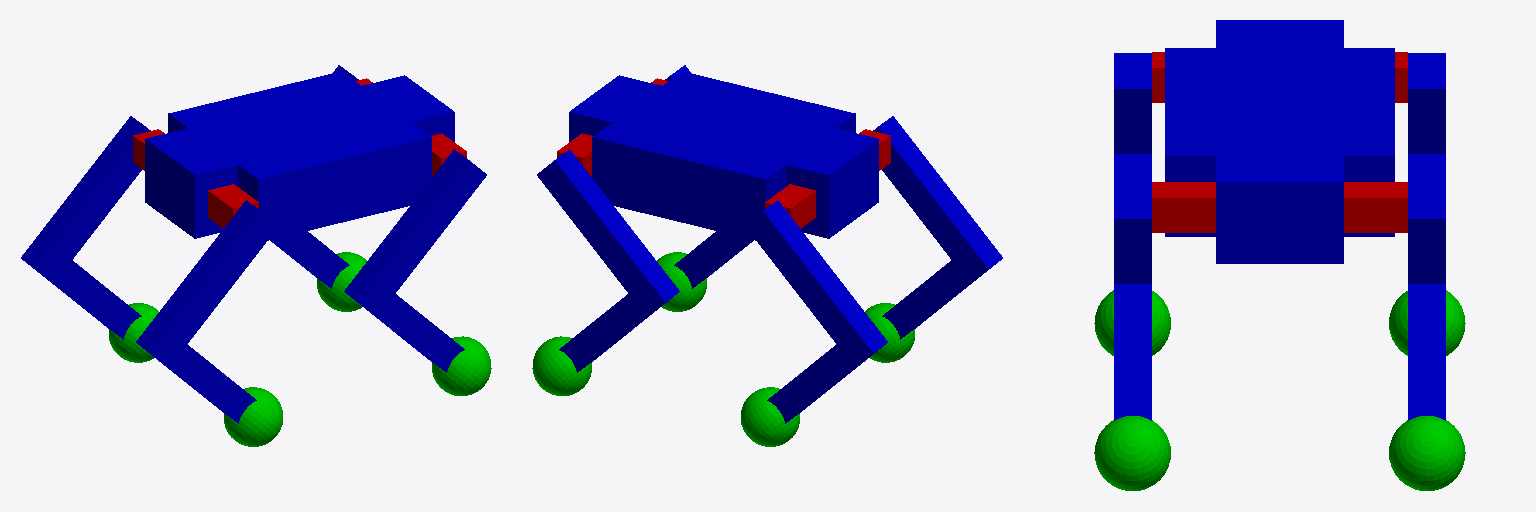
URDF robot description (quadrus):
<?xml version="1.0" ?>
<!-- =================================================================================== -->
<!-- |    This document was autogenerated by xacro from quadrus.xacro                  | -->
<!-- |    EDITING THIS FILE BY HAND IS NOT RECOMMENDED                                 | -->
<!-- =================================================================================== -->
<robot name="quadrus">
  <material name="black">
    <color rgba="0.0 0.0 0.0 1.0"/>
  </material>
  <material name="blue">
    <color rgba="0.0 0.0 0.8 1.0"/>
  </material>
  <material name="green">
    <color rgba="0.0 0.8 0.0 1.0"/>
  </material>
  <material name="grey">
    <color rgba="0.2 0.2 0.2 1.0"/>
  </material>
  <material name="orange">
    <color rgba="1.0 0.4235294117647059 0.0392156862745098 1.0"/>
  </material>
  <material name="brown">
    <color rgba="0.8705882352941177 0.8117647058823529 0.7647058823529411 1.0"/>
  </material>
  <material name="red">
    <color rgba="0.8 0.0 0.0 1.0"/>
  </material>
  <material name="white">
    <color rgba="1.0 1.0 1.0 1.0"/>
  </material>
  <link name="base_link">
    <visual>
      <origin rpy="0 0 0" xyz="0 0 0"/>
      <geometry>
        <box size="0.30 0.10 0.07"/>
      </geometry>
      <material name="blue"/>
    </visual>
    <visual>
      <origin rpy="0 0 0" xyz="0 0 0"/>
      <geometry>
        <box size="0.2 0.18 0.07"/>
      </geometry>
      <material name="blue"/>
    </visual>
    <collision>
      <origin rpy="0 0 0" xyz="0 0 0"/>
      <geometry>
        <box size="0.30 0.10 0.07"/>
      </geometry>
    </collision>
    <inertial>
      <mass value="2"/>
      <inertia ixx="0.13" ixy="0.0" ixz="0.0" iyy="0.21" iyz="0.0" izz="0.13"/>
    </inertial>
  </link>
  <!-- Hip -->
  <link name="link_back_right_hip">
    <visual>
      <origin rpy="0 0 0" xyz="0 0 0"/>
      <geometry>
        <box size="0.03 0.05 0.03"/>
      </geometry>
      <material name="red"/>
    </visual>
    <collision>
      <origin rpy="0 0 0" xyz="0 0 0"/>
      <geometry>
        <box size="0.03 0.05 0.03"/>
      </geometry>
    </collision>
    <inertial>
      <mass value="0.1"/>
      <inertia ixx="0.01" ixy="0.0" ixz="0.0" iyy="0.01" iyz="0.0" izz="0.01"/>
    </inertial>
  </link>
  <joint name="joint_back_right_hip" type="continuous">
    <parent link="base_link"/>
    <child link="link_back_right_hip"/>
    <origin rpy="0 0 0" xyz="-0.12 -0.075 0"/>
    <axis xyz="1 0 0"/>
  </joint>
  <transmission name="transmission_back_right_hip">
    <type>transmission_interface/SimpleTransmission</type>
    <joint name="joint_back_right_hip">
      <hardwareInterface>hardware_interface/EffortJointInterface</hardwareInterface>
    </joint>
    <actuator name="motor_back_right_hip">
      <mechanicalReduction>1</mechanicalReduction>
      <hardwareInterface>hardware_interface/EffortJointInterface</hardwareInterface>
    </actuator>
  </transmission>
  <gazebo reference="link_back_right_hip">
    <material>Gazebo/Red</material>
  </gazebo>
  <!-- Upperleg -->
  <link name="link_back_right_upperleg">
    <visual>
      <origin rpy="0 0 0" xyz="-0.075 0 0"/>
      <geometry>
        <box size="0.18 0.03 0.03"/>
      </geometry>
      <material name="blue"/>
    </visual>
    <collision>
      <origin rpy="0 0 0" xyz="-0.075 0 0"/>
      <geometry>
        <box size="0.18 0.03 0.03"/>
      </geometry>
    </collision>
    <inertial>
      <mass value="0.1"/>
      <inertia ixx="0.1" ixy="0.0" ixz="0.0" iyy="0.1" iyz="0.0" izz="0.1"/>
    </inertial>
  </link>
  <joint name="joint_back_right_upperleg" type="continuous">
    <parent link="link_back_right_hip"/>
    <child link="link_back_right_upperleg"/>
    <origin rpy="0 -0.7854 0" xyz="0 -0.04 0"/>
    <axis xyz="0 1 0"/>
  </joint>
  <transmission name="transmission_back_right_upperleg">
    <type>transmission_interface/SimpleTransmission</type>
    <joint name="joint_back_right_upperleg">
      <hardwareInterface>hardware_interface/EffortJointInterface</hardwareInterface>
    </joint>
    <actuator name="motor_back_right_upperleg">
      <mechanicalReduction>1</mechanicalReduction>
      <hardwareInterface>hardware_interface/EffortJointInterface</hardwareInterface>
    </actuator>
  </transmission>
  <gazebo reference="link_back_right_upperleg">
    <material>Gazebo/White</material>
  </gazebo>
  <!-- LowerLeg -->
  <link name="link_back_right_lowerleg">
    <visual>
      <origin rpy="0 0 0" xyz="0.075 0 0"/>
      <geometry>
        <box size="0.18 0.03 0.03"/>
      </geometry>
      <material name="blue"/>
    </visual>
    <collision>
      <origin rpy="0 0 0" xyz="0.075 0 0"/>
      <geometry>
        <box size="0.18 0.03 0.03"/>
      </geometry>
    </collision>
    <inertial>
      <mass value="0.1"/>
      <inertia ixx="0.1" ixy="0.0" ixz="0.0" iyy="0.1" iyz="0.0" izz="0.1"/>
    </inertial>
  </link>
  <joint name="joint_back_right_lowerleg" type="continuous">
    <parent link="link_back_right_upperleg"/>
    <child link="link_back_right_lowerleg"/>
    <origin rpy="0 1.5708 0" xyz="-0.15 0 0"/>
    <axis xyz="0 1 0"/>
  </joint>
  <transmission name="transmission_back_right_lowerleg">
    <type>transmission_interface/SimpleTransmission</type>
    <joint name="joint_back_right_lowerleg">
      <hardwareInterface>hardware_interface/EffortJointInterface</hardwareInterface>
    </joint>
    <actuator name="motor_back_right_lowerleg">
      <mechanicalReduction>1</mechanicalReduction>
      <hardwareInterface>hardware_interface/EffortJointInterface</hardwareInterface>
    </actuator>
  </transmission>
  <gazebo reference="link_back_right_lowerleg">
    <material>Gazebo/White</material>
  </gazebo>
  <!-- Paw -->
  <link name="link_back_right_paw">
    <visual>
      <origin rpy="0 0 0" xyz="0 0 0"/>
      <geometry>
        <sphere radius="0.03"/>
      </geometry>
      <material name="green"/>
    </visual>
    <collision>
      <origin rpy="0 0 0" xyz="0 0 0"/>
      <geometry>
        <sphere radius="0.03"/>
      </geometry>
    </collision>
    <inertial>
      <mass value="0.1"/>
      <inertia ixx="0.1" ixy="0.0" ixz="0.0" iyy="0.1" iyz="0.0" izz="0.1"/>
    </inertial>
  </link>
  <joint name="joint_back_right_paw" type="fixed">
    <parent link="link_back_right_lowerleg"/>
    <child link="link_back_right_paw"/>
    <origin rpy="0 0 0" xyz="0.15 0 0"/>
  </joint>
  <gazebo reference="link_back_right_paw">
    <material>Gazebo/Green</material>
  </gazebo>
  <!-- Hip -->
  <link name="link_back_left_hip">
    <visual>
      <origin rpy="0 0 0" xyz="0 0 0"/>
      <geometry>
        <box size="0.03 0.05 0.03"/>
      </geometry>
      <material name="red"/>
    </visual>
    <collision>
      <origin rpy="0 0 0" xyz="0 0 0"/>
      <geometry>
        <box size="0.03 0.05 0.03"/>
      </geometry>
    </collision>
    <inertial>
      <mass value="0.1"/>
      <inertia ixx="0.01" ixy="0.0" ixz="0.0" iyy="0.01" iyz="0.0" izz="0.01"/>
    </inertial>
  </link>
  <joint name="joint_back_left_hip" type="continuous">
    <parent link="base_link"/>
    <child link="link_back_left_hip"/>
    <origin rpy="0 0 0" xyz="-0.12 0.075 0"/>
    <axis xyz="1 0 0"/>
  </joint>
  <transmission name="transmission_back_left_hip">
    <type>transmission_interface/SimpleTransmission</type>
    <joint name="joint_back_left_hip">
      <hardwareInterface>hardware_interface/EffortJointInterface</hardwareInterface>
    </joint>
    <actuator name="motor_back_left_hip">
      <mechanicalReduction>1</mechanicalReduction>
      <hardwareInterface>hardware_interface/EffortJointInterface</hardwareInterface>
    </actuator>
  </transmission>
  <gazebo reference="link_back_left_hip">
    <material>Gazebo/Red</material>
  </gazebo>
  <!-- Upperleg -->
  <link name="link_back_left_upperleg">
    <visual>
      <origin rpy="0 0 0" xyz="-0.075 0 0"/>
      <geometry>
        <box size="0.18 0.03 0.03"/>
      </geometry>
      <material name="blue"/>
    </visual>
    <collision>
      <origin rpy="0 0 0" xyz="-0.075 0 0"/>
      <geometry>
        <box size="0.18 0.03 0.03"/>
      </geometry>
    </collision>
    <inertial>
      <mass value="0.1"/>
      <inertia ixx="0.1" ixy="0.0" ixz="0.0" iyy="0.1" iyz="0.0" izz="0.1"/>
    </inertial>
  </link>
  <joint name="joint_back_left_upperleg" type="continuous">
    <parent link="link_back_left_hip"/>
    <child link="link_back_left_upperleg"/>
    <origin rpy="0 -0.7854 0" xyz="0 0.04 0"/>
    <axis xyz="0 1 0"/>
  </joint>
  <transmission name="transmission_back_left_upperleg">
    <type>transmission_interface/SimpleTransmission</type>
    <joint name="joint_back_left_upperleg">
      <hardwareInterface>hardware_interface/EffortJointInterface</hardwareInterface>
    </joint>
    <actuator name="motor_back_left_upperleg">
      <mechanicalReduction>1</mechanicalReduction>
      <hardwareInterface>hardware_interface/EffortJointInterface</hardwareInterface>
    </actuator>
  </transmission>
  <gazebo reference="link_back_left_upperleg">
    <material>Gazebo/White</material>
  </gazebo>
  <!-- LowerLeg -->
  <link name="link_back_left_lowerleg">
    <visual>
      <origin rpy="0 0 0" xyz="0.075 0 0"/>
      <geometry>
        <box size="0.18 0.03 0.03"/>
      </geometry>
      <material name="blue"/>
    </visual>
    <collision>
      <origin rpy="0 0 0" xyz="0.075 0 0"/>
      <geometry>
        <box size="0.18 0.03 0.03"/>
      </geometry>
    </collision>
    <inertial>
      <mass value="0.1"/>
      <inertia ixx="0.1" ixy="0.0" ixz="0.0" iyy="0.1" iyz="0.0" izz="0.1"/>
    </inertial>
  </link>
  <joint name="joint_back_left_lowerleg" type="continuous">
    <parent link="link_back_left_upperleg"/>
    <child link="link_back_left_lowerleg"/>
    <origin rpy="0 1.5708 0" xyz="-0.15 0 0"/>
    <axis xyz="0 1 0"/>
  </joint>
  <transmission name="transmission_back_left_lowerleg">
    <type>transmission_interface/SimpleTransmission</type>
    <joint name="joint_back_left_lowerleg">
      <hardwareInterface>hardware_interface/EffortJointInterface</hardwareInterface>
    </joint>
    <actuator name="motor_back_left_lowerleg">
      <mechanicalReduction>1</mechanicalReduction>
      <hardwareInterface>hardware_interface/EffortJointInterface</hardwareInterface>
    </actuator>
  </transmission>
  <gazebo reference="link_back_left_lowerleg">
    <material>Gazebo/White</material>
  </gazebo>
  <!-- Paw -->
  <link name="link_back_left_paw">
    <visual>
      <origin rpy="0 0 0" xyz="0 0 0"/>
      <geometry>
        <sphere radius="0.03"/>
      </geometry>
      <material name="green"/>
    </visual>
    <collision>
      <origin rpy="0 0 0" xyz="0 0 0"/>
      <geometry>
        <sphere radius="0.03"/>
      </geometry>
    </collision>
    <inertial>
      <mass value="0.1"/>
      <inertia ixx="0.1" ixy="0.0" ixz="0.0" iyy="0.1" iyz="0.0" izz="0.1"/>
    </inertial>
  </link>
  <joint name="joint_back_left_paw" type="fixed">
    <parent link="link_back_left_lowerleg"/>
    <child link="link_back_left_paw"/>
    <origin rpy="0 0 0" xyz="0.15 0 0"/>
  </joint>
  <gazebo reference="link_back_left_paw">
    <material>Gazebo/Green</material>
  </gazebo>
  <!-- Hip -->
  <link name="link_front_right_hip">
    <visual>
      <origin rpy="0 0 0" xyz="0 0 0"/>
      <geometry>
        <box size="0.03 0.05 0.03"/>
      </geometry>
      <material name="red"/>
    </visual>
    <collision>
      <origin rpy="0 0 0" xyz="0 0 0"/>
      <geometry>
        <box size="0.03 0.05 0.03"/>
      </geometry>
    </collision>
    <inertial>
      <mass value="0.1"/>
      <inertia ixx="0.01" ixy="0.0" ixz="0.0" iyy="0.01" iyz="0.0" izz="0.01"/>
    </inertial>
  </link>
  <joint name="joint_front_right_hip" type="continuous">
    <parent link="base_link"/>
    <child link="link_front_right_hip"/>
    <origin rpy="0 0 0" xyz="0.12 -0.075 0"/>
    <axis xyz="1 0 0"/>
  </joint>
  <transmission name="transmission_front_right_hip">
    <type>transmission_interface/SimpleTransmission</type>
    <joint name="joint_front_right_hip">
      <hardwareInterface>hardware_interface/EffortJointInterface</hardwareInterface>
    </joint>
    <actuator name="motor_front_right_hip">
      <mechanicalReduction>1</mechanicalReduction>
      <hardwareInterface>hardware_interface/EffortJointInterface</hardwareInterface>
    </actuator>
  </transmission>
  <gazebo reference="link_front_right_hip">
    <material>Gazebo/Red</material>
  </gazebo>
  <!-- Upperleg -->
  <link name="link_front_right_upperleg">
    <visual>
      <origin rpy="0 0 0" xyz="-0.075 0 0"/>
      <geometry>
        <box size="0.18 0.03 0.03"/>
      </geometry>
      <material name="blue"/>
    </visual>
    <collision>
      <origin rpy="0 0 0" xyz="-0.075 0 0"/>
      <geometry>
        <box size="0.18 0.03 0.03"/>
      </geometry>
    </collision>
    <inertial>
      <mass value="0.1"/>
      <inertia ixx="0.1" ixy="0.0" ixz="0.0" iyy="0.1" iyz="0.0" izz="0.1"/>
    </inertial>
  </link>
  <joint name="joint_front_right_upperleg" type="continuous">
    <parent link="link_front_right_hip"/>
    <child link="link_front_right_upperleg"/>
    <origin rpy="0 -0.7854 0" xyz="0 -0.04 0"/>
    <axis xyz="0 1 0"/>
  </joint>
  <transmission name="transmission_front_right_upperleg">
    <type>transmission_interface/SimpleTransmission</type>
    <joint name="joint_front_right_upperleg">
      <hardwareInterface>hardware_interface/EffortJointInterface</hardwareInterface>
    </joint>
    <actuator name="motor_front_right_upperleg">
      <mechanicalReduction>1</mechanicalReduction>
      <hardwareInterface>hardware_interface/EffortJointInterface</hardwareInterface>
    </actuator>
  </transmission>
  <gazebo reference="link_front_right_upperleg">
    <material>Gazebo/White</material>
  </gazebo>
  <!-- LowerLeg -->
  <link name="link_front_right_lowerleg">
    <visual>
      <origin rpy="0 0 0" xyz="0.075 0 0"/>
      <geometry>
        <box size="0.18 0.03 0.03"/>
      </geometry>
      <material name="blue"/>
    </visual>
    <collision>
      <origin rpy="0 0 0" xyz="0.075 0 0"/>
      <geometry>
        <box size="0.18 0.03 0.03"/>
      </geometry>
    </collision>
    <inertial>
      <mass value="0.1"/>
      <inertia ixx="0.1" ixy="0.0" ixz="0.0" iyy="0.1" iyz="0.0" izz="0.1"/>
    </inertial>
  </link>
  <joint name="joint_front_right_lowerleg" type="continuous">
    <parent link="link_front_right_upperleg"/>
    <child link="link_front_right_lowerleg"/>
    <origin rpy="0 1.5708 0" xyz="-0.15 0 0"/>
    <axis xyz="0 1 0"/>
  </joint>
  <transmission name="transmission_front_right_lowerleg">
    <type>transmission_interface/SimpleTransmission</type>
    <joint name="joint_front_right_lowerleg">
      <hardwareInterface>hardware_interface/EffortJointInterface</hardwareInterface>
    </joint>
    <actuator name="motor_front_right_lowerleg">
      <mechanicalReduction>1</mechanicalReduction>
      <hardwareInterface>hardware_interface/EffortJointInterface</hardwareInterface>
    </actuator>
  </transmission>
  <gazebo reference="link_front_right_lowerleg">
    <material>Gazebo/White</material>
  </gazebo>
  <!-- Paw -->
  <link name="link_front_right_paw">
    <visual>
      <origin rpy="0 0 0" xyz="0 0 0"/>
      <geometry>
        <sphere radius="0.03"/>
      </geometry>
      <material name="green"/>
    </visual>
    <collision>
      <origin rpy="0 0 0" xyz="0 0 0"/>
      <geometry>
        <sphere radius="0.03"/>
      </geometry>
    </collision>
    <inertial>
      <mass value="0.1"/>
      <inertia ixx="0.1" ixy="0.0" ixz="0.0" iyy="0.1" iyz="0.0" izz="0.1"/>
    </inertial>
  </link>
  <joint name="joint_front_right_paw" type="fixed">
    <parent link="link_front_right_lowerleg"/>
    <child link="link_front_right_paw"/>
    <origin rpy="0 0 0" xyz="0.15 0 0"/>
  </joint>
  <gazebo reference="link_front_right_paw">
    <material>Gazebo/Green</material>
  </gazebo>
  <!-- Hip -->
  <link name="link_front_left_hip">
    <visual>
      <origin rpy="0 0 0" xyz="0 0 0"/>
      <geometry>
        <box size="0.03 0.05 0.03"/>
      </geometry>
      <material name="red"/>
    </visual>
    <collision>
      <origin rpy="0 0 0" xyz="0 0 0"/>
      <geometry>
        <box size="0.03 0.05 0.03"/>
      </geometry>
    </collision>
    <inertial>
      <mass value="0.1"/>
      <inertia ixx="0.01" ixy="0.0" ixz="0.0" iyy="0.01" iyz="0.0" izz="0.01"/>
    </inertial>
  </link>
  <joint name="joint_front_left_hip" type="continuous">
    <parent link="base_link"/>
    <child link="link_front_left_hip"/>
    <origin rpy="0 0 0" xyz="0.12 0.075 0"/>
    <axis xyz="1 0 0"/>
  </joint>
  <transmission name="transmission_front_left_hip">
    <type>transmission_interface/SimpleTransmission</type>
    <joint name="joint_front_left_hip">
      <hardwareInterface>hardware_interface/EffortJointInterface</hardwareInterface>
    </joint>
    <actuator name="motor_front_left_hip">
      <mechanicalReduction>1</mechanicalReduction>
      <hardwareInterface>hardware_interface/EffortJointInterface</hardwareInterface>
    </actuator>
  </transmission>
  <gazebo reference="link_front_left_hip">
    <material>Gazebo/Red</material>
  </gazebo>
  <!-- Upperleg -->
  <link name="link_front_left_upperleg">
    <visual>
      <origin rpy="0 0 0" xyz="-0.075 0 0"/>
      <geometry>
        <box size="0.18 0.03 0.03"/>
      </geometry>
      <material name="blue"/>
    </visual>
    <collision>
      <origin rpy="0 0 0" xyz="-0.075 0 0"/>
      <geometry>
        <box size="0.18 0.03 0.03"/>
      </geometry>
    </collision>
    <inertial>
      <mass value="0.1"/>
      <inertia ixx="0.1" ixy="0.0" ixz="0.0" iyy="0.1" iyz="0.0" izz="0.1"/>
    </inertial>
  </link>
  <joint name="joint_front_left_upperleg" type="continuous">
    <parent link="link_front_left_hip"/>
    <child link="link_front_left_upperleg"/>
    <origin rpy="0 -0.7854 0" xyz="0 0.04 0"/>
    <axis xyz="0 1 0"/>
  </joint>
  <transmission name="transmission_front_left_upperleg">
    <type>transmission_interface/SimpleTransmission</type>
    <joint name="joint_front_left_upperleg">
      <hardwareInterface>hardware_interface/EffortJointInterface</hardwareInterface>
    </joint>
    <actuator name="motor_front_left_upperleg">
      <mechanicalReduction>1</mechanicalReduction>
      <hardwareInterface>hardware_interface/EffortJointInterface</hardwareInterface>
    </actuator>
  </transmission>
  <gazebo reference="link_front_left_upperleg">
    <material>Gazebo/White</material>
  </gazebo>
  <!-- LowerLeg -->
  <link name="link_front_left_lowerleg">
    <visual>
      <origin rpy="0 0 0" xyz="0.075 0 0"/>
      <geometry>
        <box size="0.18 0.03 0.03"/>
      </geometry>
      <material name="blue"/>
    </visual>
    <collision>
      <origin rpy="0 0 0" xyz="0.075 0 0"/>
      <geometry>
        <box size="0.18 0.03 0.03"/>
      </geometry>
    </collision>
    <inertial>
      <mass value="0.1"/>
      <inertia ixx="0.1" ixy="0.0" ixz="0.0" iyy="0.1" iyz="0.0" izz="0.1"/>
    </inertial>
  </link>
  <joint name="joint_front_left_lowerleg" type="continuous">
    <parent link="link_front_left_upperleg"/>
    <child link="link_front_left_lowerleg"/>
    <origin rpy="0 1.5708 0" xyz="-0.15 0 0"/>
    <axis xyz="0 1 0"/>
  </joint>
  <transmission name="transmission_front_left_lowerleg">
    <type>transmission_interface/SimpleTransmission</type>
    <joint name="joint_front_left_lowerleg">
      <hardwareInterface>hardware_interface/EffortJointInterface</hardwareInterface>
    </joint>
    <actuator name="motor_front_left_lowerleg">
      <mechanicalReduction>1</mechanicalReduction>
      <hardwareInterface>hardware_interface/EffortJointInterface</hardwareInterface>
    </actuator>
  </transmission>
  <gazebo reference="link_front_left_lowerleg">
    <material>Gazebo/White</material>
  </gazebo>
  <!-- Paw -->
  <link name="link_front_left_paw">
    <visual>
      <origin rpy="0 0 0" xyz="0 0 0"/>
      <geometry>
        <sphere radius="0.03"/>
      </geometry>
      <material name="green"/>
    </visual>
    <collision>
      <origin rpy="0 0 0" xyz="0 0 0"/>
      <geometry>
        <sphere radius="0.03"/>
      </geometry>
    </collision>
    <inertial>
      <mass value="0.1"/>
      <inertia ixx="0.1" ixy="0.0" ixz="0.0" iyy="0.1" iyz="0.0" izz="0.1"/>
    </inertial>
  </link>
  <joint name="joint_front_left_paw" type="fixed">
    <parent link="link_front_left_lowerleg"/>
    <child link="link_front_left_paw"/>
    <origin rpy="0 0 0" xyz="0.15 0 0"/>
  </joint>
  <gazebo reference="link_front_left_paw">
    <material>Gazebo/Green</material>
  </gazebo>
  <!-- ros_control plugin -->
  <gazebo>
    <plugin filename="libgazebo_ros_control.so" name="gazebo_ros_control">
      <robotNamespace>/quadrus</robotNamespace>
      <robotSimType>gazebo_ros_control/DefaultRobotHWSim</robotSimType>
    </plugin>
  </gazebo>
  <gazebo reference="base_link">
    <material>Gazebo/Blue</material>
    <pose>0 0 1 0 0 0 </pose>
  </gazebo>
</robot>

--- Render facts (derived) ---
The picture shows the robot from 3 angles, left to right: view 1: azimuth 30°, elevation 25°; view 2: azimuth 150°, elevation 25°; view 3: azimuth 270°, elevation 25°; orthographic projection.
Robot: quadrus — 17 links, 16 joints (12 continuous, 4 fixed); root link base_link; default pose: every joint at zero.
Links seen in each view (by area): view 1: base_link, link_front_right_upperleg, link_back_right_upperleg, link_back_left_upperleg, link_back_left_lowerleg, link_back_right_lowerleg, link_front_right_lowerleg, link_front_right_paw, link_back_right_paw, link_front_left_lowerleg, link_back_left_paw, link_front_left_paw (+2 smaller); view 2: base_link, link_front_left_upperleg, link_back_left_upperleg, link_back_right_upperleg, link_back_right_lowerleg, link_back_left_lowerleg, link_front_left_lowerleg, link_front_left_paw, link_back_left_paw, link_front_right_lowerleg, link_back_right_paw, link_front_right_paw (+2 smaller); view 3: base_link, link_front_right_lowerleg, link_front_left_lowerleg, link_front_right_paw, link_front_left_paw, link_back_right_upperleg, link_back_left_upperleg, link_front_right_upperleg, link_front_left_upperleg, link_front_right_hip, link_front_left_hip, link_back_right_paw (+5 smaller).
Link boxes in pixels (box(x1,y1,x2,y2)): base_link: box(145, 71, 454, 240); link_front_right_upperleg: box(347, 149, 486, 316); link_back_right_upperleg: box(138, 200, 278, 367); link_back_left_upperleg: box(23, 116, 150, 283); link_back_left_lowerleg: box(21, 244, 141, 339); link_back_right_lowerleg: box(136, 327, 256, 423); link_front_right_lowerleg: box(344, 278, 464, 372); link_front_right_paw: box(432, 336, 491, 395); link_back_right_paw: box(224, 387, 282, 446); link_front_left_lowerleg: box(270, 231, 349, 288); link_back_left_paw: box(109, 303, 158, 362); link_front_left_paw: box(317, 252, 366, 311); base_link: box(569, 71, 878, 240); link_front_left_upperleg: box(537, 149, 676, 316); link_back_left_upperleg: box(745, 200, 885, 364); link_back_right_upperleg: box(873, 116, 1000, 283); link_back_right_lowerleg: box(882, 244, 1002, 339); link_back_left_lowerleg: box(767, 326, 887, 423); link_front_left_lowerleg: box(559, 279, 679, 372); link_front_left_paw: box(532, 336, 591, 395); link_back_left_paw: box(741, 387, 799, 446); link_front_right_lowerleg: box(674, 231, 753, 288); link_back_right_paw: box(865, 303, 914, 362); link_front_right_paw: box(657, 252, 706, 311); base_link: box(1165, 20, 1394, 263); link_front_right_lowerleg: box(1114, 284, 1151, 420); link_front_left_lowerleg: box(1408, 284, 1445, 420); link_front_right_paw: box(1094, 416, 1170, 490); link_front_left_paw: box(1389, 416, 1465, 490); link_back_right_upperleg: box(1114, 53, 1151, 153); link_back_left_upperleg: box(1408, 53, 1445, 153); link_front_right_upperleg: box(1114, 183, 1151, 283); link_front_left_upperleg: box(1408, 183, 1445, 283); link_front_right_hip: box(1152, 182, 1215, 232); link_front_left_hip: box(1344, 182, 1407, 232); link_back_right_paw: box(1094, 290, 1170, 355).
Size in the robot's own frame: 0.3973 by 0.29 by 0.2771 metres.
Geometry: primitives only (box / cylinder / sphere), no mesh files.